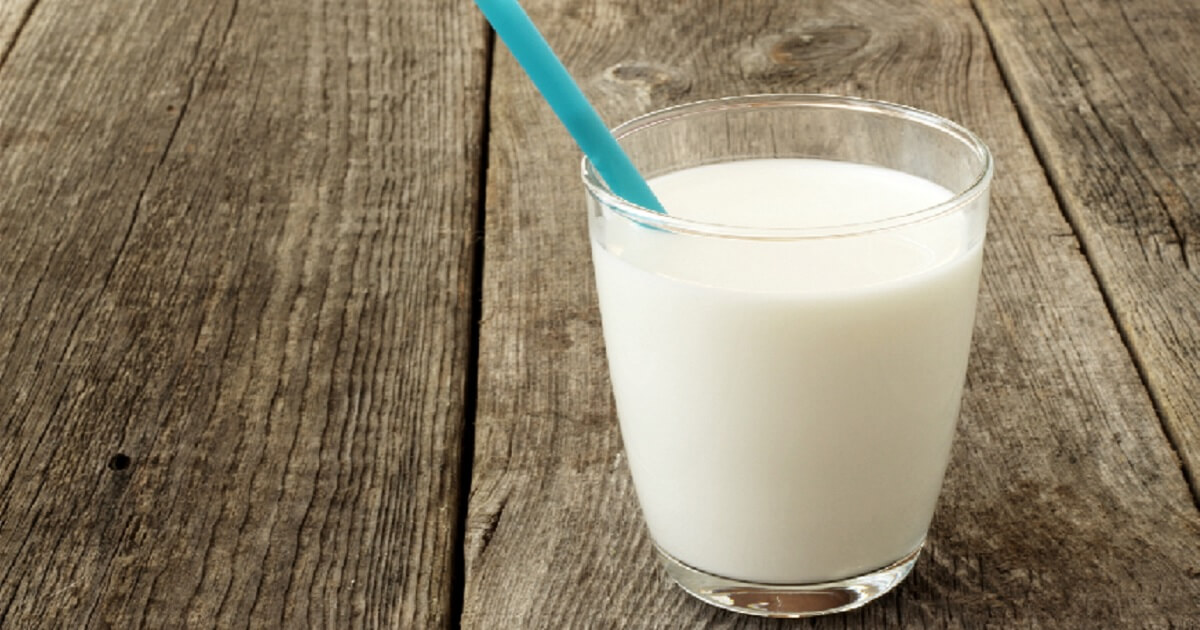glass of milk: (584, 148, 981, 602)
